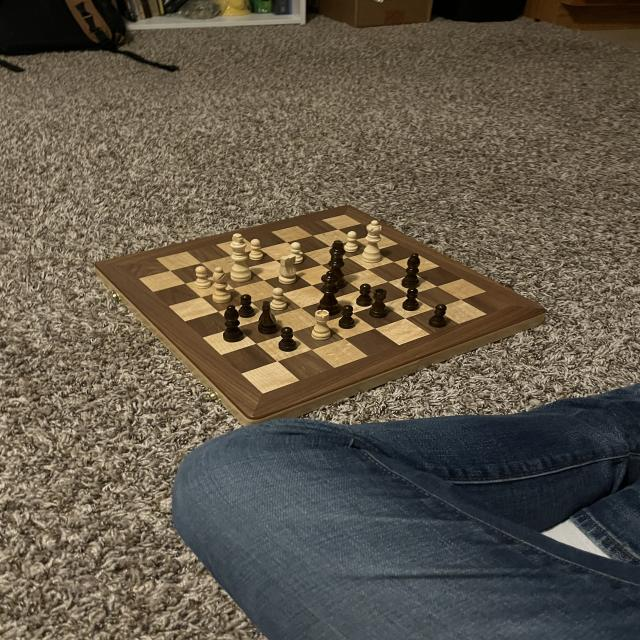bishop: (221, 304, 248, 343), (400, 251, 424, 291)
black-bishop: (325, 236, 349, 291)
black-king: (254, 297, 280, 338)
black-knight: (235, 293, 258, 320), (276, 326, 298, 354), (427, 303, 449, 330), (400, 288, 422, 312), (355, 280, 373, 309), (338, 304, 357, 329)
black-pawn: (316, 270, 346, 318)
black-queen: (367, 286, 390, 320)
black-rook: (212, 266, 232, 304)
white-bishop: (225, 231, 255, 285)
white-king: (278, 253, 300, 286)
white-knight: (192, 264, 214, 290), (340, 229, 362, 255), (286, 240, 307, 266), (268, 287, 289, 312), (247, 236, 265, 262)
white-pawn: (360, 218, 386, 266)
white-queen: (308, 306, 334, 342)
